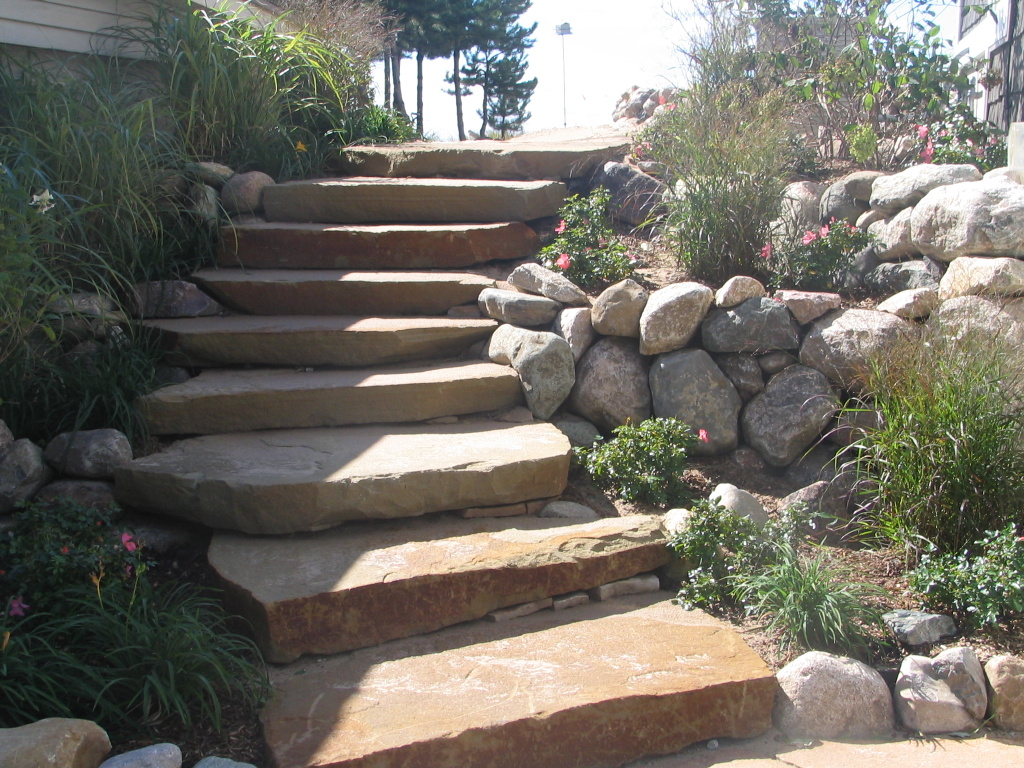upstairs: (197, 266, 552, 529)
